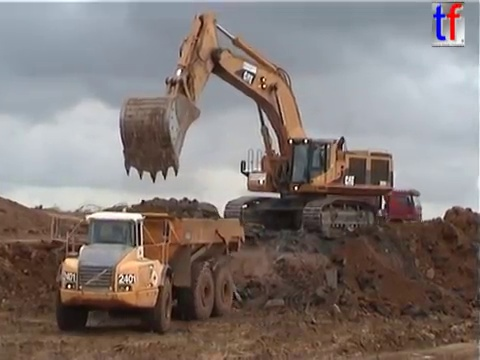excavator: (116, 9, 397, 242)
truck: (53, 208, 248, 334), (307, 187, 424, 231)
